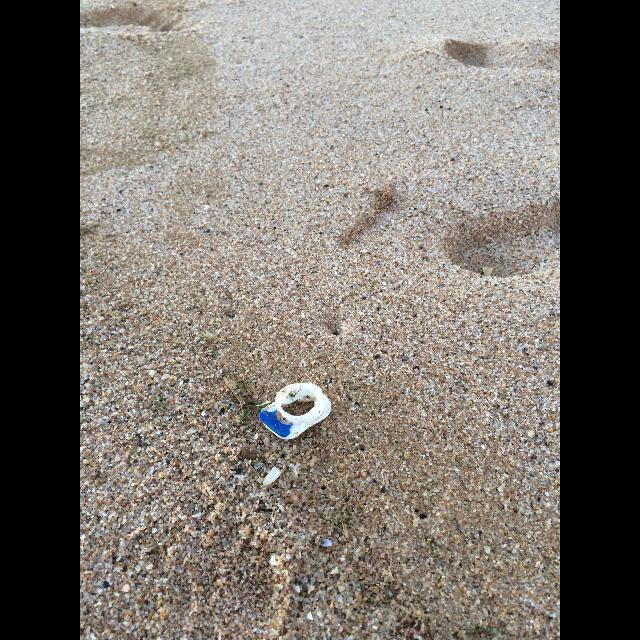Plastic: (259, 382, 331, 440)
